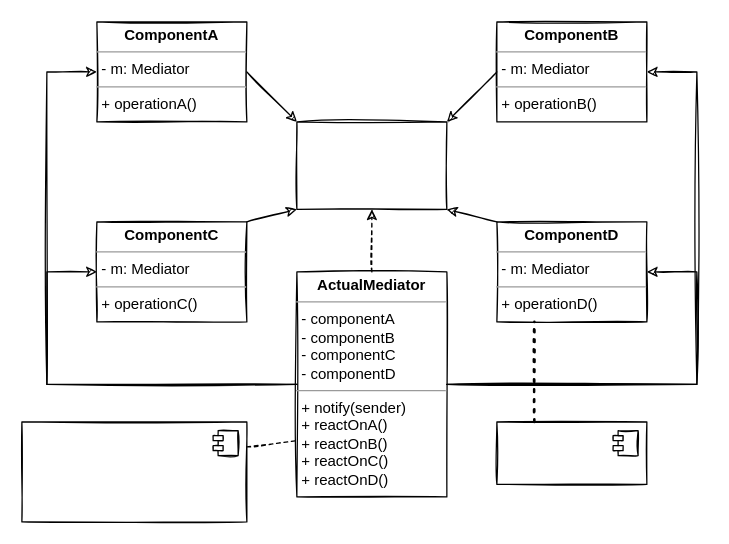
Some shapes in this 729 by 544 pixel diagram are drawn without their labels. Here are the shapes that lost their labels. From the top down, the centre of each, then its label:
(x=371, y=165): <<Interface>> Mediator + notify(sender)
(x=134, y=471): if (sender == componentA) reactOnA()
(x=571, y=452): m.notify(this)
